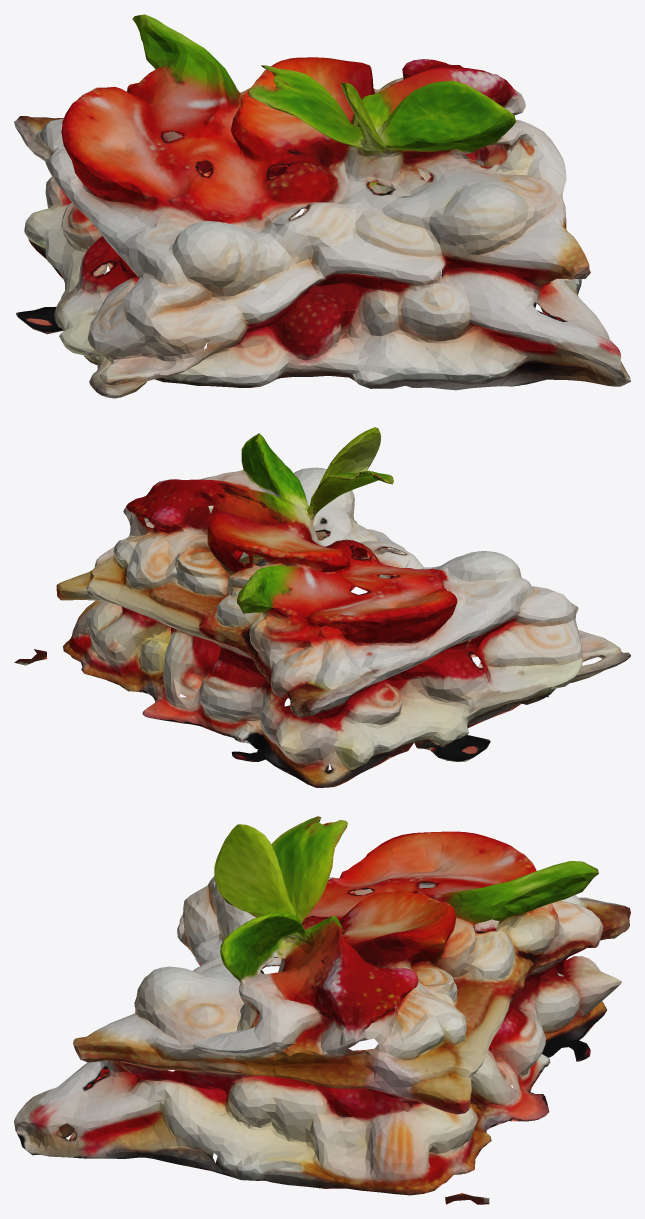
File: GoldenCrustDessert.glb
The picture shows the model from 3 angles, top to bottom: view 1: azimuth 30°, elevation 25°; view 2: azimuth 150°, elevation 25°; view 3: azimuth 270°, elevation 25°; orthographic projection. The views are drawn at different scales.
Visible parts, largest first — view 1: world; view 2: world; view 3: world.
Part boxes in pixels (<box>): world: <box>14,14,630,398</box>; world: <box>14,427,630,787</box>; world: <box>14,816,630,1204</box>.
Bounding box in the file's own units: 0.9977 × 0.4381 × 0.9747.
1 material, 1 textured.
